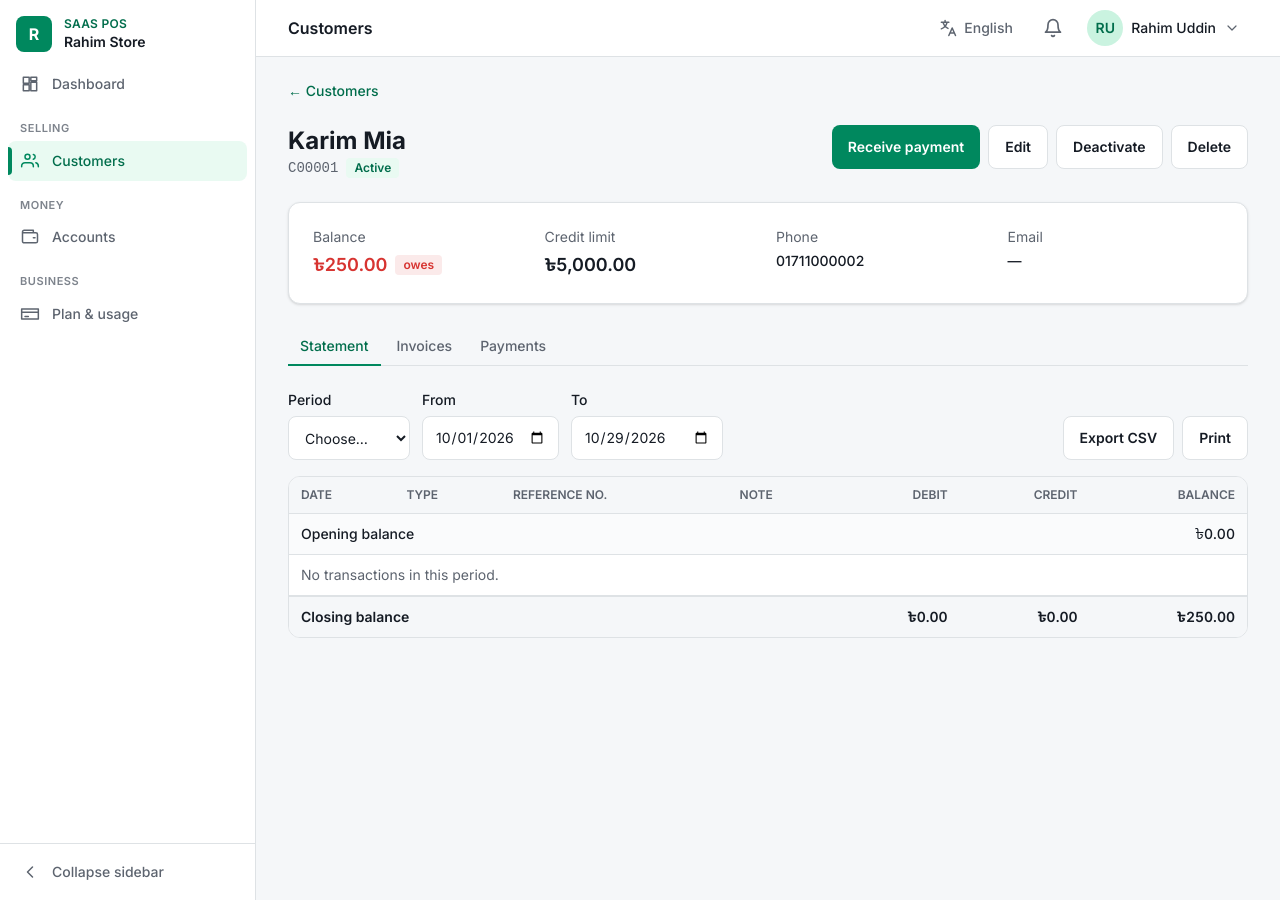
Scenario: customers › suggests deactivating when a customer with transactions is deleted
The image size is (1280, 900).
Click the button "Delete".
click(1209, 147)  # box top-left (1171, 125), bottom-right (1248, 169)
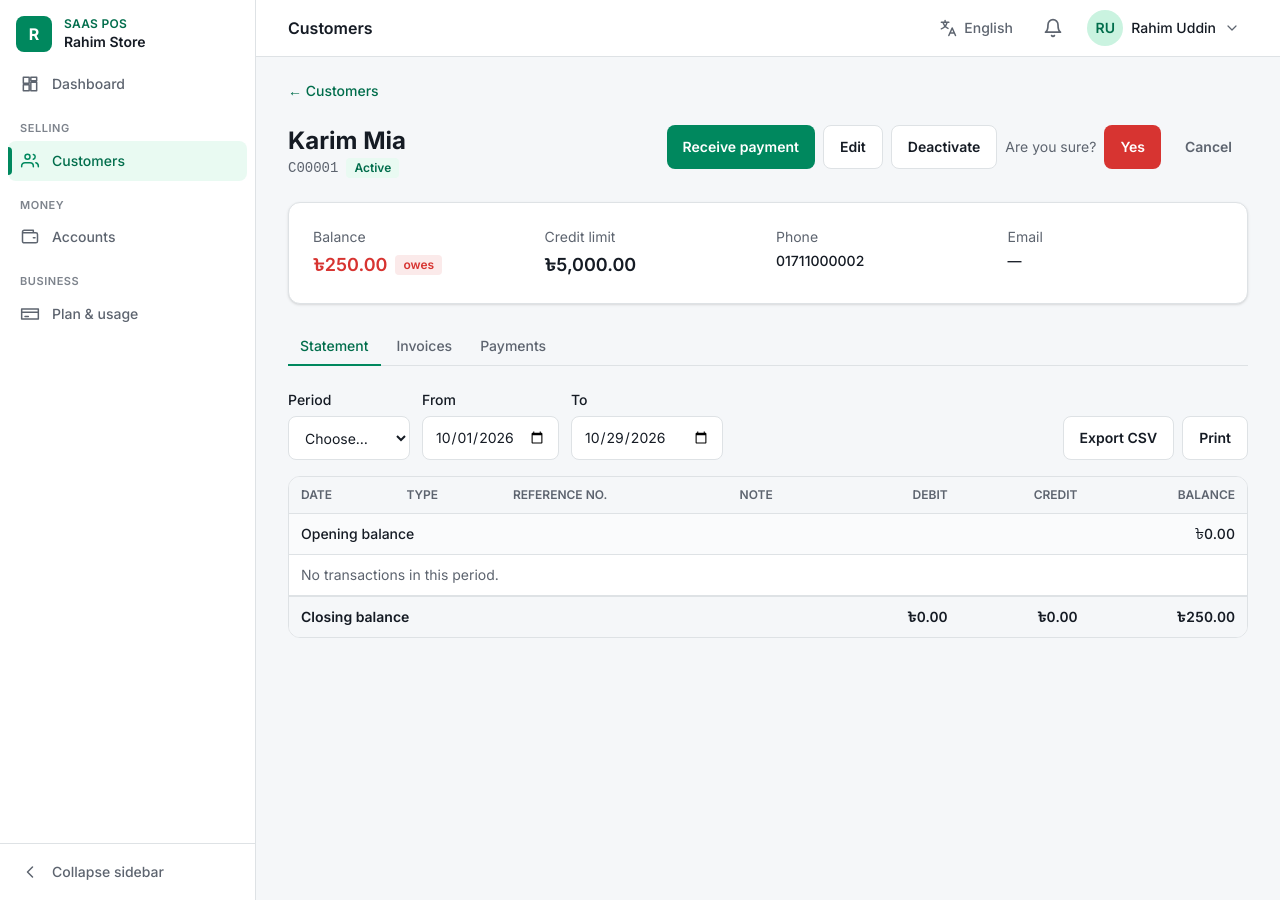
Click the button "Yes".
click(1133, 147)  # box top-left (1104, 125), bottom-right (1161, 169)
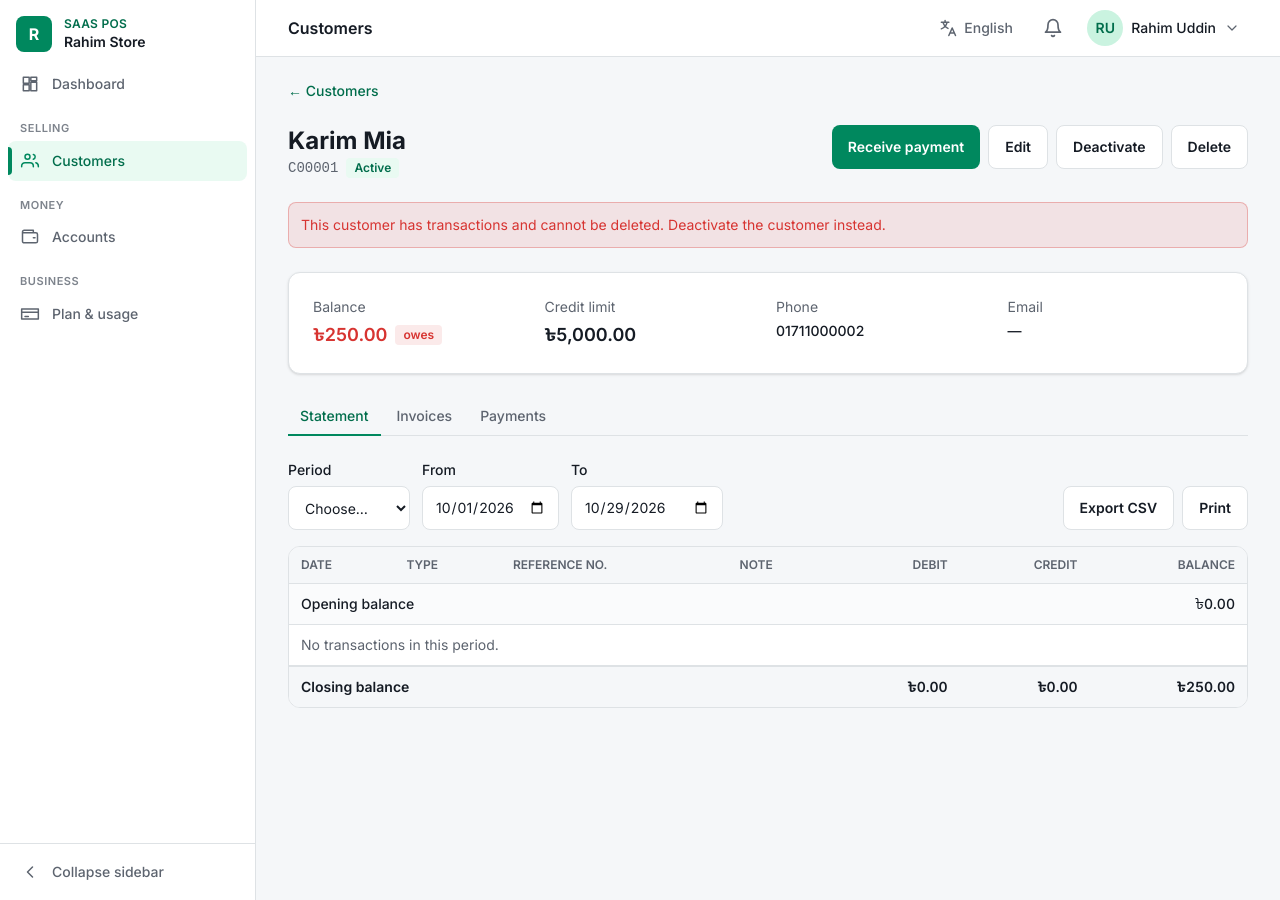
Now the text "Deactivate the customer instead" is shown, box top-left (301, 216), bottom-right (886, 233)
